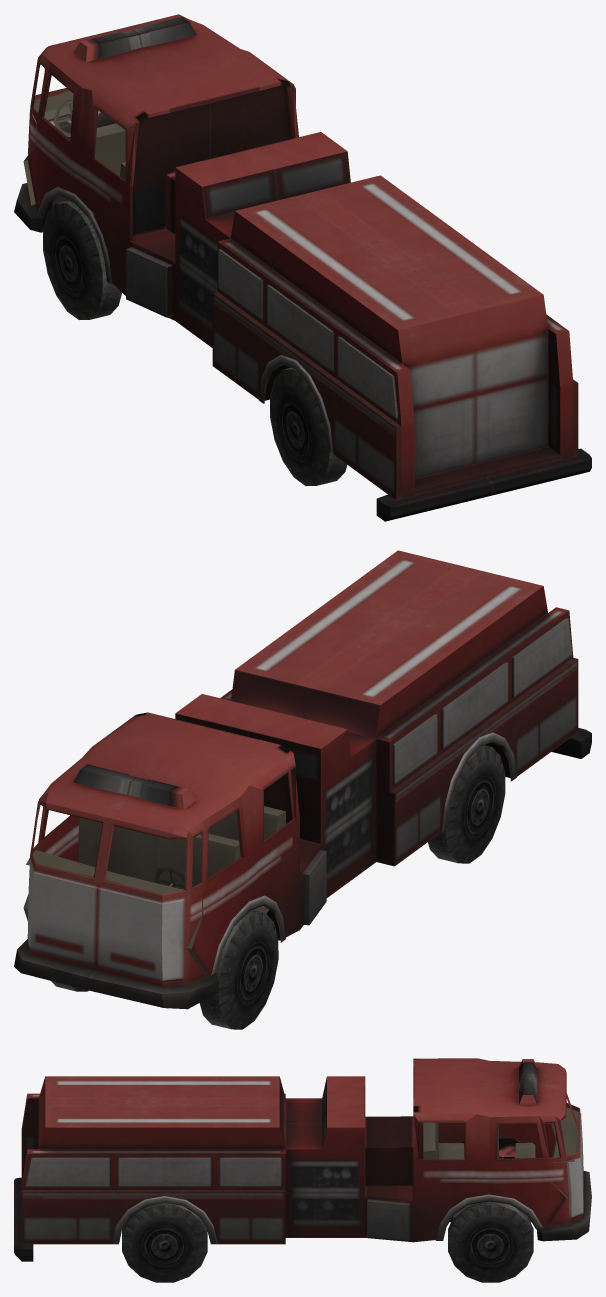
The model's file is FireTruck.DAE.
The picture shows the model from 3 angles, top to bottom: view 1: azimuth 30°, elevation 25°; view 2: azimuth 150°, elevation 25°; view 3: azimuth 270°, elevation 25°; orthographic projection. The views are drawn at different scales.
Visible parts, largest first — view 1: hull, wheels_spin_steer002, wheels_spin002, dash, lights; view 2: hull, dash, wheels_spin_steer002, wheels_spin002, lights; view 3: hull, wheels_spin_steer001, wheels_spin001, dash, lights.
Boxes of the visible parts, bbox=[...] form: hull: bbox=[14, 14, 591, 521]; wheels_spin_steer002: bbox=[43, 201, 121, 319]; wheels_spin002: bbox=[270, 367, 347, 485]; dash: bbox=[23, 91, 125, 220]; lights: bbox=[73, 17, 196, 61]; hull: bbox=[14, 550, 591, 1009]; dash: bbox=[23, 806, 285, 974]; wheels_spin_steer002: bbox=[199, 910, 278, 1029]; wheels_spin002: bbox=[428, 745, 505, 863]; lights: bbox=[73, 764, 196, 809]; hull: bbox=[14, 1058, 591, 1261]; wheels_spin_steer001: bbox=[448, 1201, 533, 1282]; wheels_spin001: bbox=[122, 1203, 207, 1282]; dash: bbox=[423, 1107, 578, 1224]; lights: bbox=[519, 1059, 537, 1104].
Bounding box in the file's own units: 2.44 × 2.78 × 8.31.
Materials: 3 (3 with a texture image).
